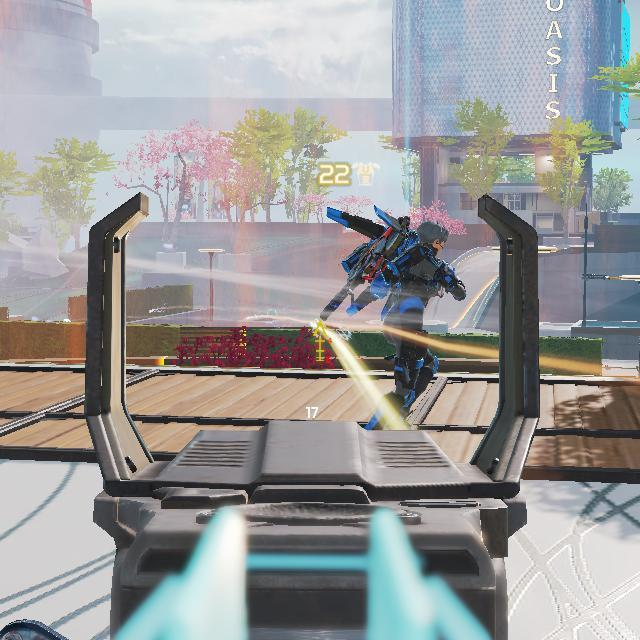avatar: (368, 220, 465, 427)
